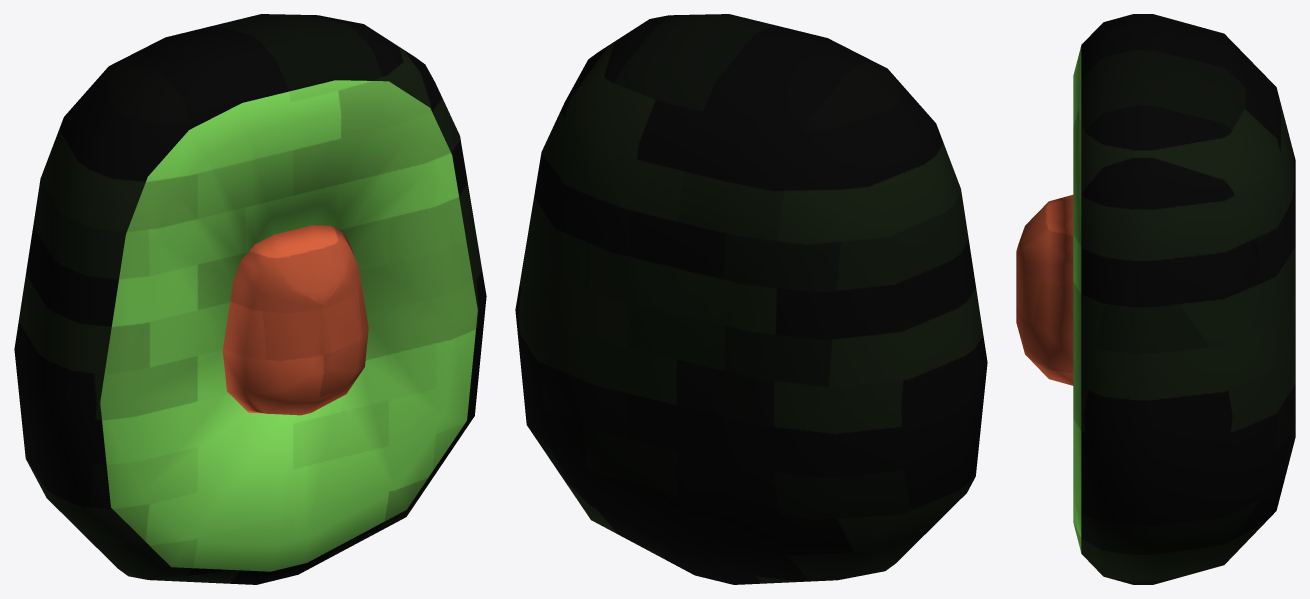
Rendered from Aguacate1.fbx.
3 views of the same model, side by side, from view 1: azimuth 30°, elevation 25°; view 2: azimuth 150°, elevation 25°; view 3: azimuth 270°, elevation 25° (orthographic). The views are drawn at different scales.
Visible parts, largest first — view 1: Cube.001; view 2: Cube.001; view 3: Cube.001.
Part boxes in pixels (x1=…): Cube.001: x1=14, y1=14, x2=486, y2=584; Cube.001: x1=515, y1=14, x2=987, y2=584; Cube.001: x1=1016, y1=14, x2=1295, y2=584.
Size of the model in its own units: 170 by 200 by 101.
